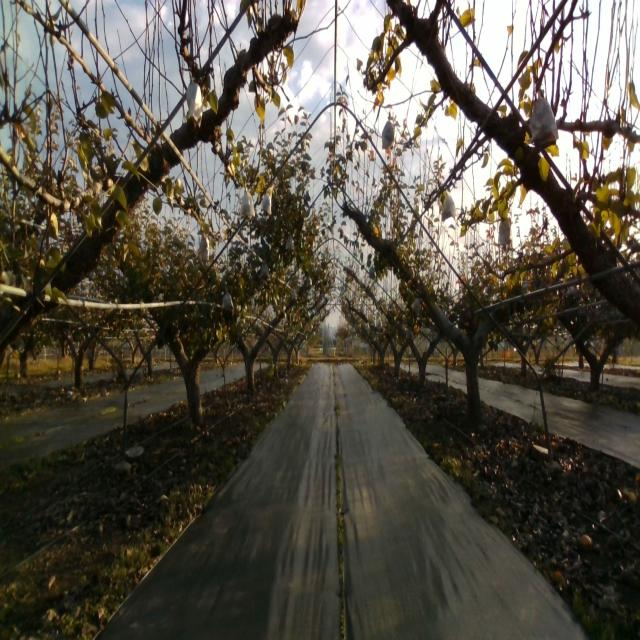pearbags: (525, 88, 559, 147), (186, 70, 203, 128), (240, 185, 256, 218), (382, 112, 394, 149), (197, 232, 210, 264), (441, 193, 455, 222), (498, 218, 511, 246), (222, 288, 234, 312), (262, 191, 272, 217)
